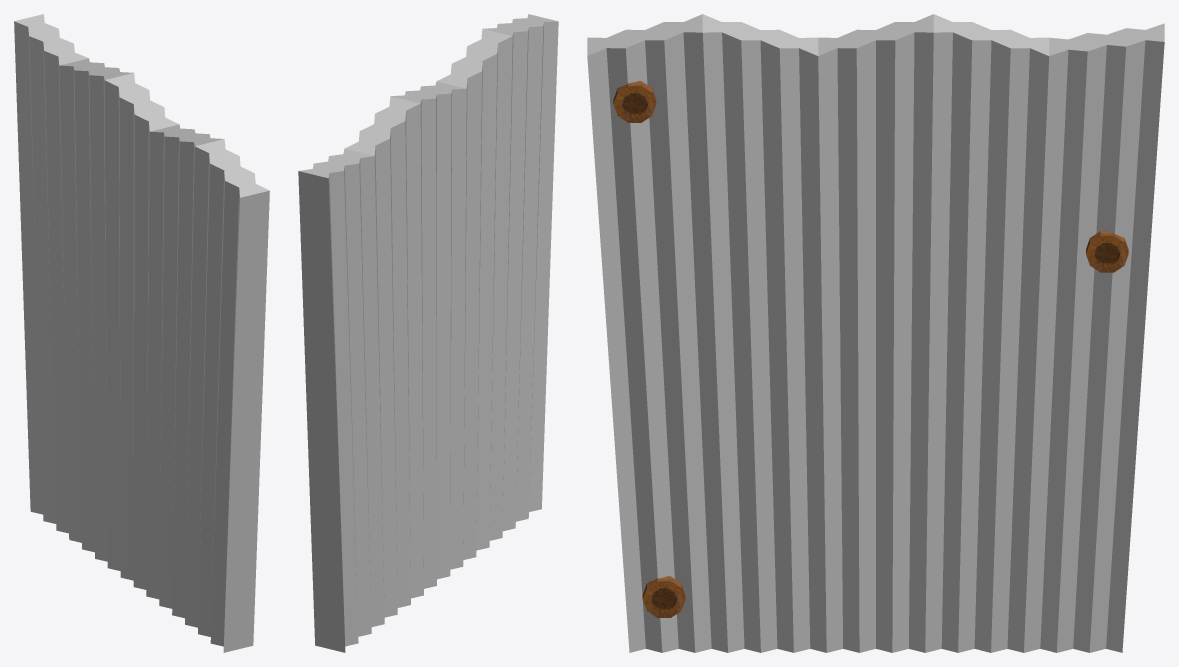
File: Metal Plate 1.fbx
The picture shows the model from 3 angles, left to right: view 1: azimuth 30°, elevation 25°; view 2: azimuth 150°, elevation 25°; view 3: azimuth 270°, elevation 25°; orthographic projection. The views are drawn at different scales.
Visible parts, largest first — view 1: Cube.001; view 2: Cube.001; view 3: Cube.001.
Boxes of the visible parts, x1,y1,x2,y2 form: Cube.001: (14,14,269,652); Cube.001: (298,14,558,652); Cube.001: (587,14,1164,652).
Size of the model in its own units: 18.06 by 248 by 209.
